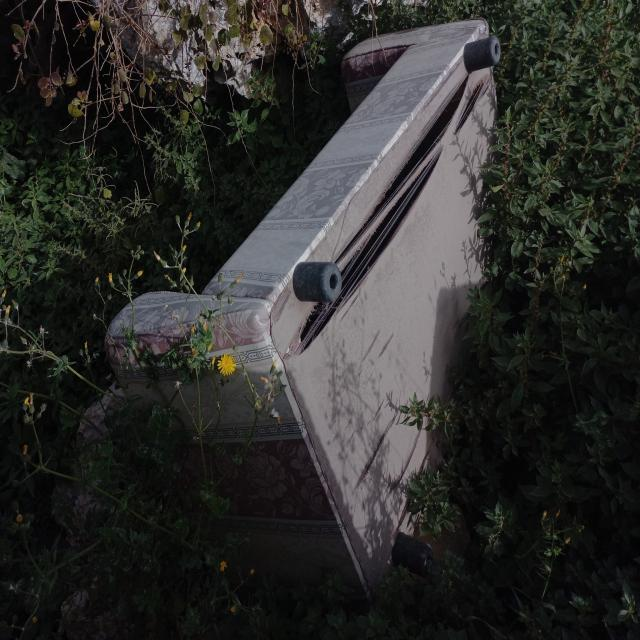Other litter: (72, 15, 502, 605)
